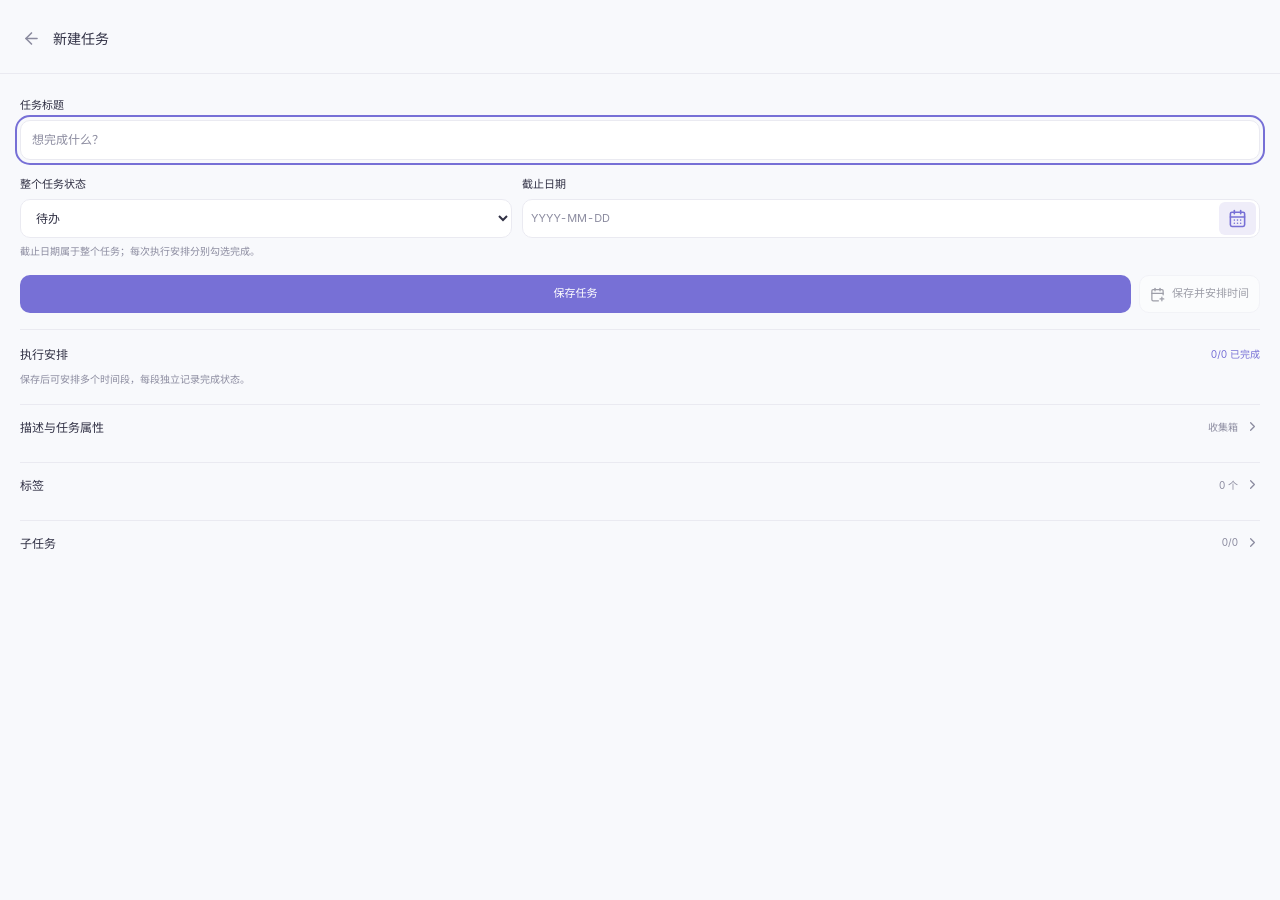
it: 紧凑任务详情与每次安排 › 截止日期复用日期弹层，只选择日期，取消不会改任务或生成安排
Click the button named "选择截止日期" at (1238, 218), box 1219,202 -> 1256,234
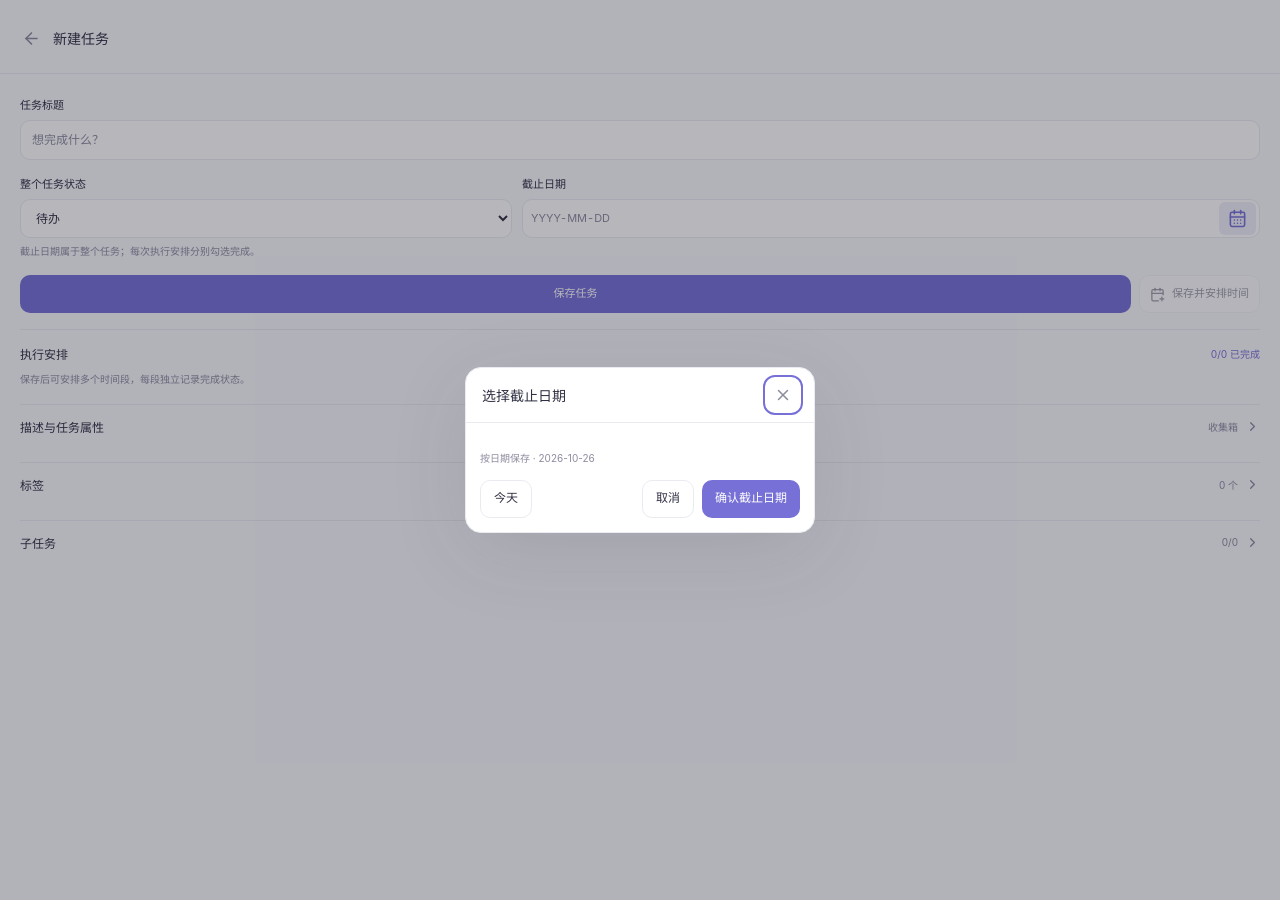
Expected: the dialog "选择截止日期" is shown, 465,367 -> 815,533
Click the button "取消" at (668, 499), box 642,480 -> 694,518
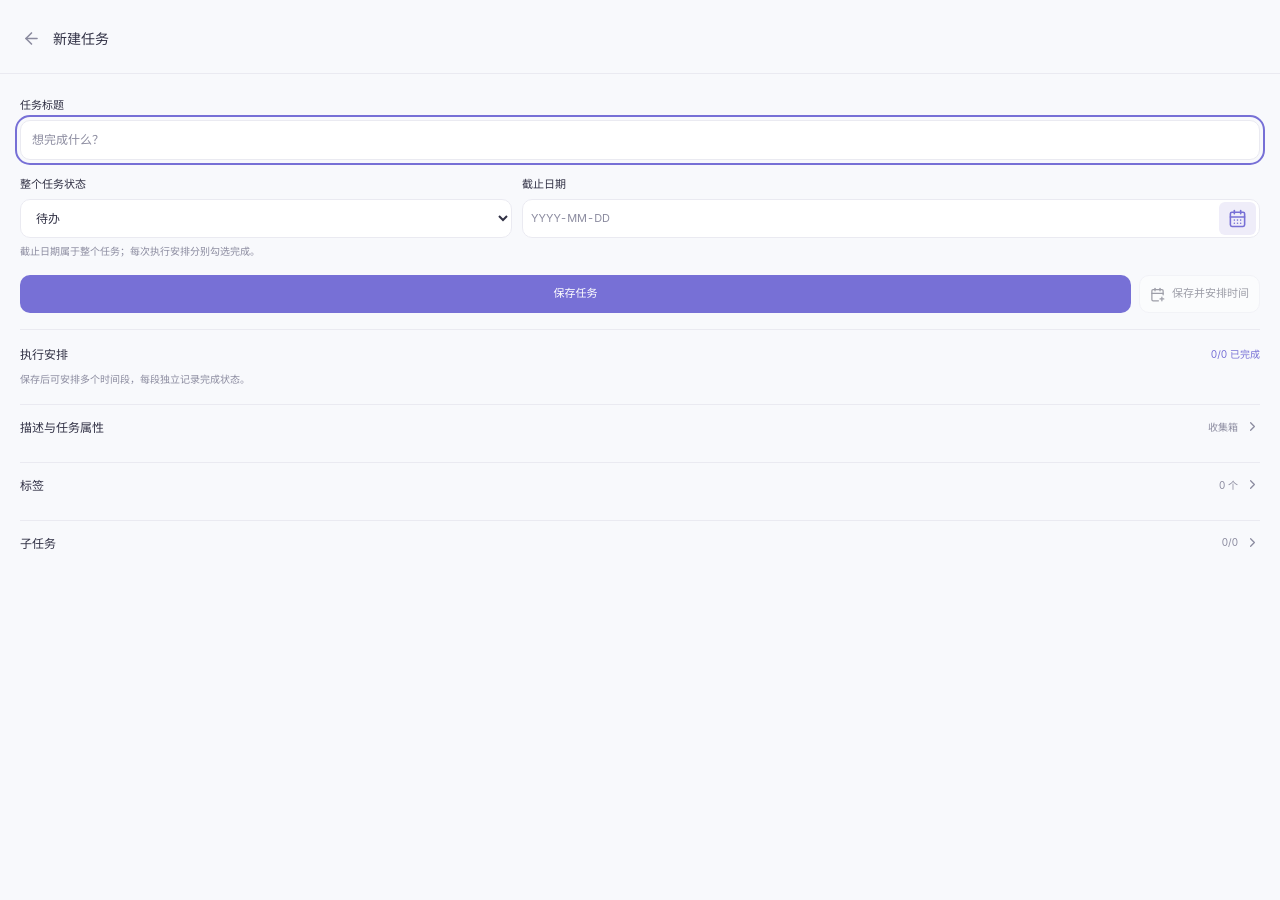
Expected: the field labelled "截止日期" is empty, 522,199 -> 1260,238
Expected: the heading "选择截止日期" is gone
